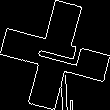L_W: (27, 34, 83, 76)
